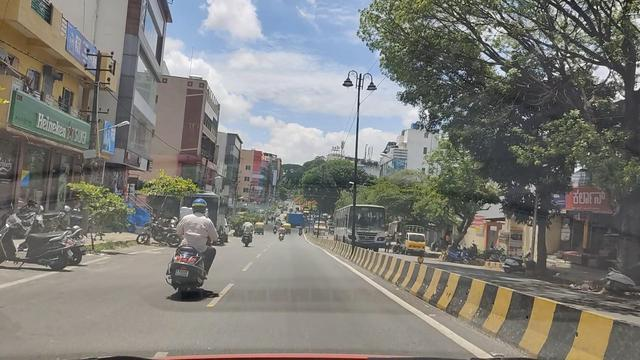LMV: (150, 184, 222, 311)
